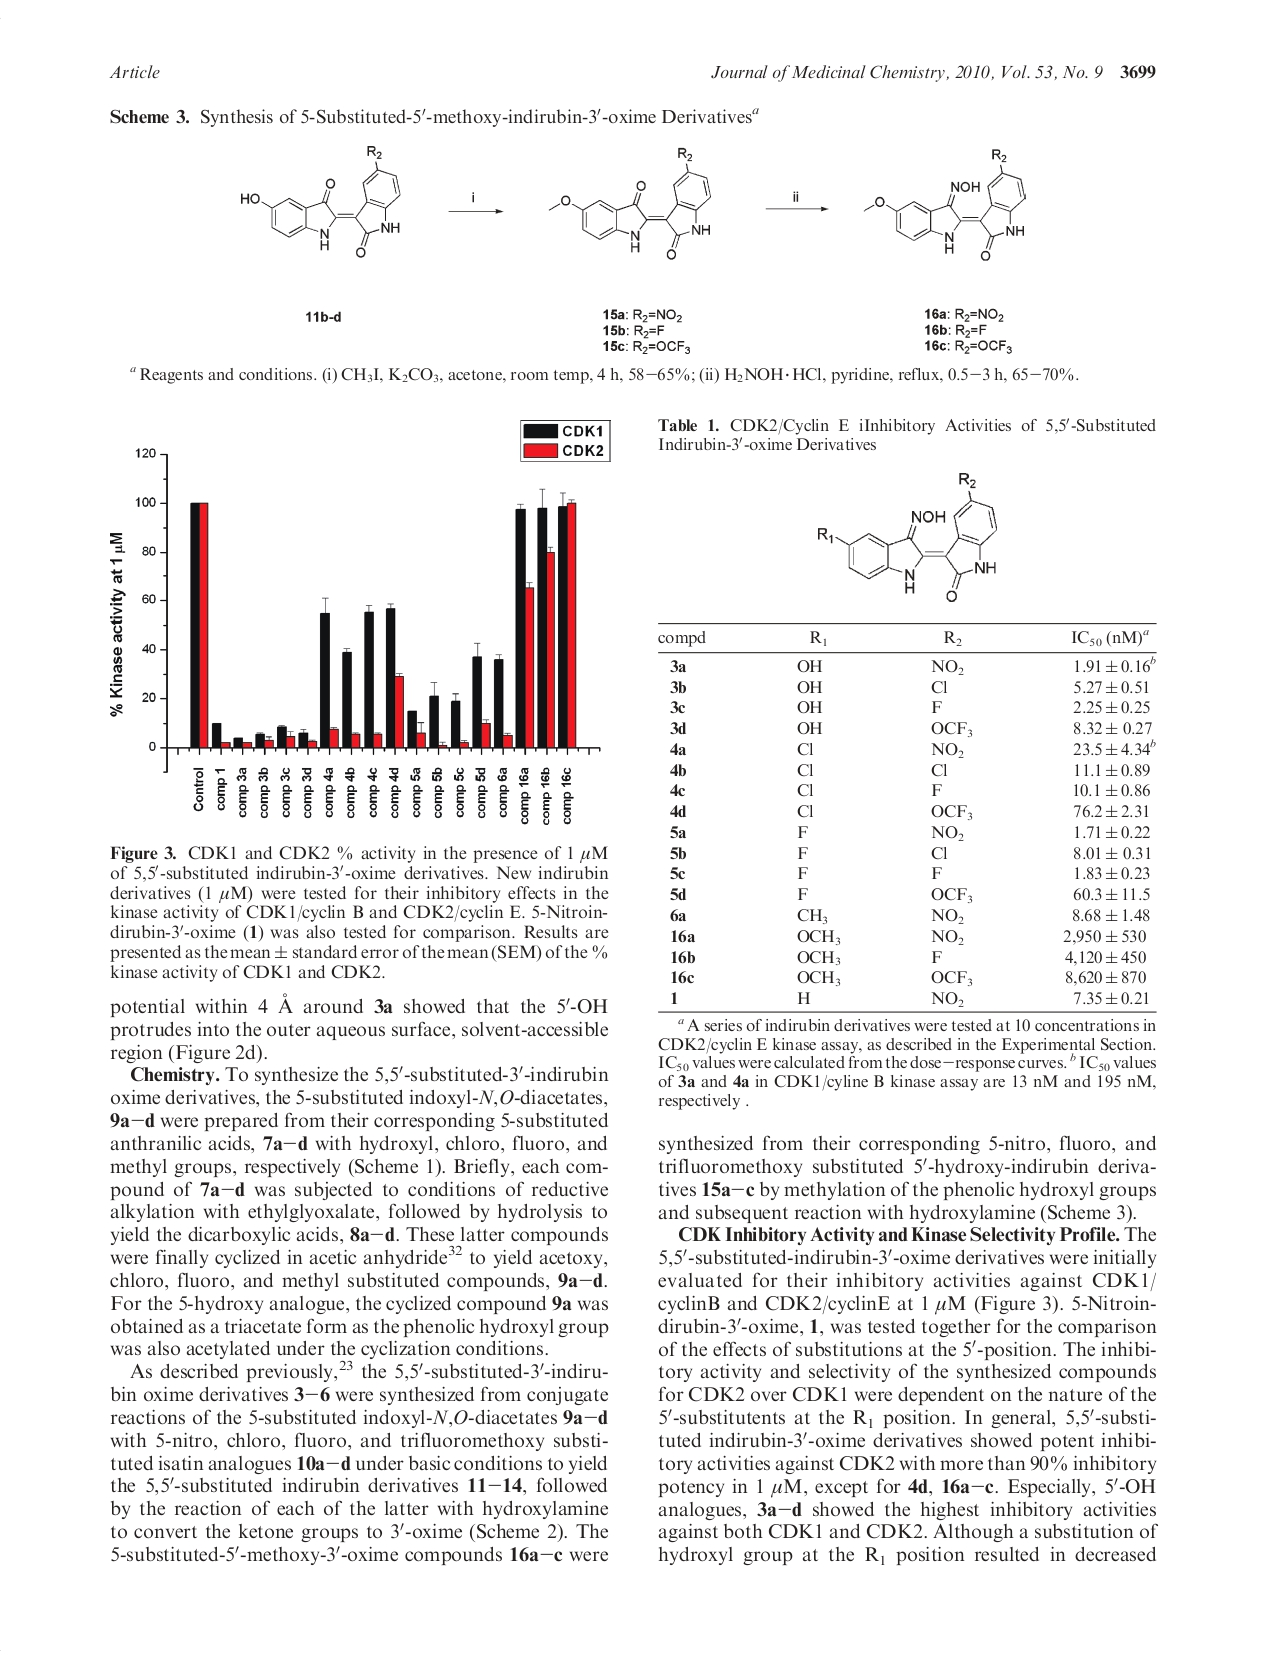exist_molecular: (813, 465, 1005, 606), (858, 141, 1033, 269), (547, 148, 723, 265), (239, 141, 404, 261)
